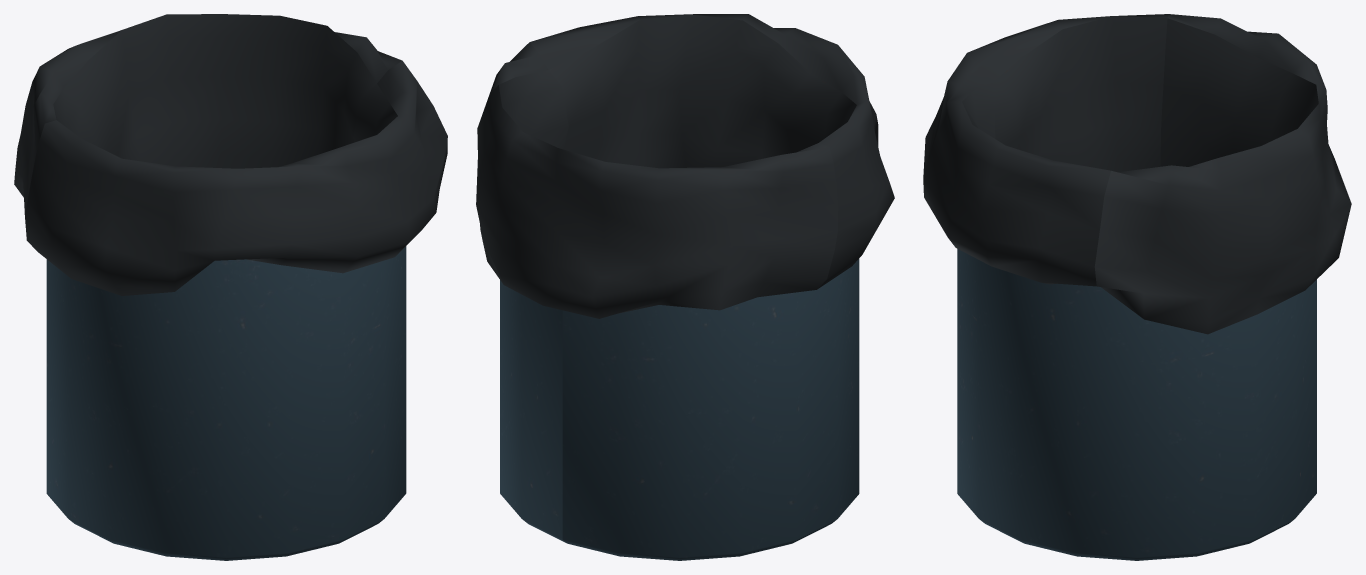
The model's file is trash_can.obj.
The picture shows the model from 3 angles, left to right: view 1: azimuth 30°, elevation 25°; view 2: azimuth 150°, elevation 25°; view 3: azimuth 270°, elevation 25°; orthographic projection.
Visible parts, largest first — view 1: Cylinder181__0; view 2: Cylinder181__0; view 3: Cylinder181__0.
Part boxes in pixels (x1=…): Cylinder181__0: x1=14, y1=14, x2=447, y2=560; Cylinder181__0: x1=476, y1=14, x2=894, y2=560; Cylinder181__0: x1=923, y1=14, x2=1351, y2=560.
Bounding box in the file's own units: 0.6796 × 0.6696 × 0.6526.
1 material, 1 textured.
